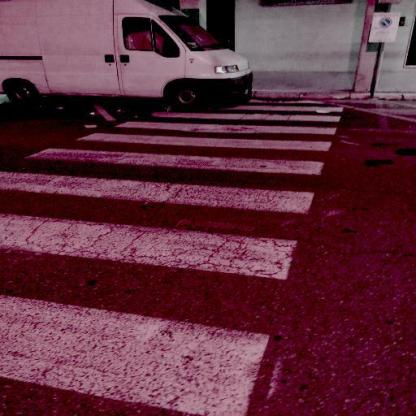crosswalk: (21, 131, 338, 181)
